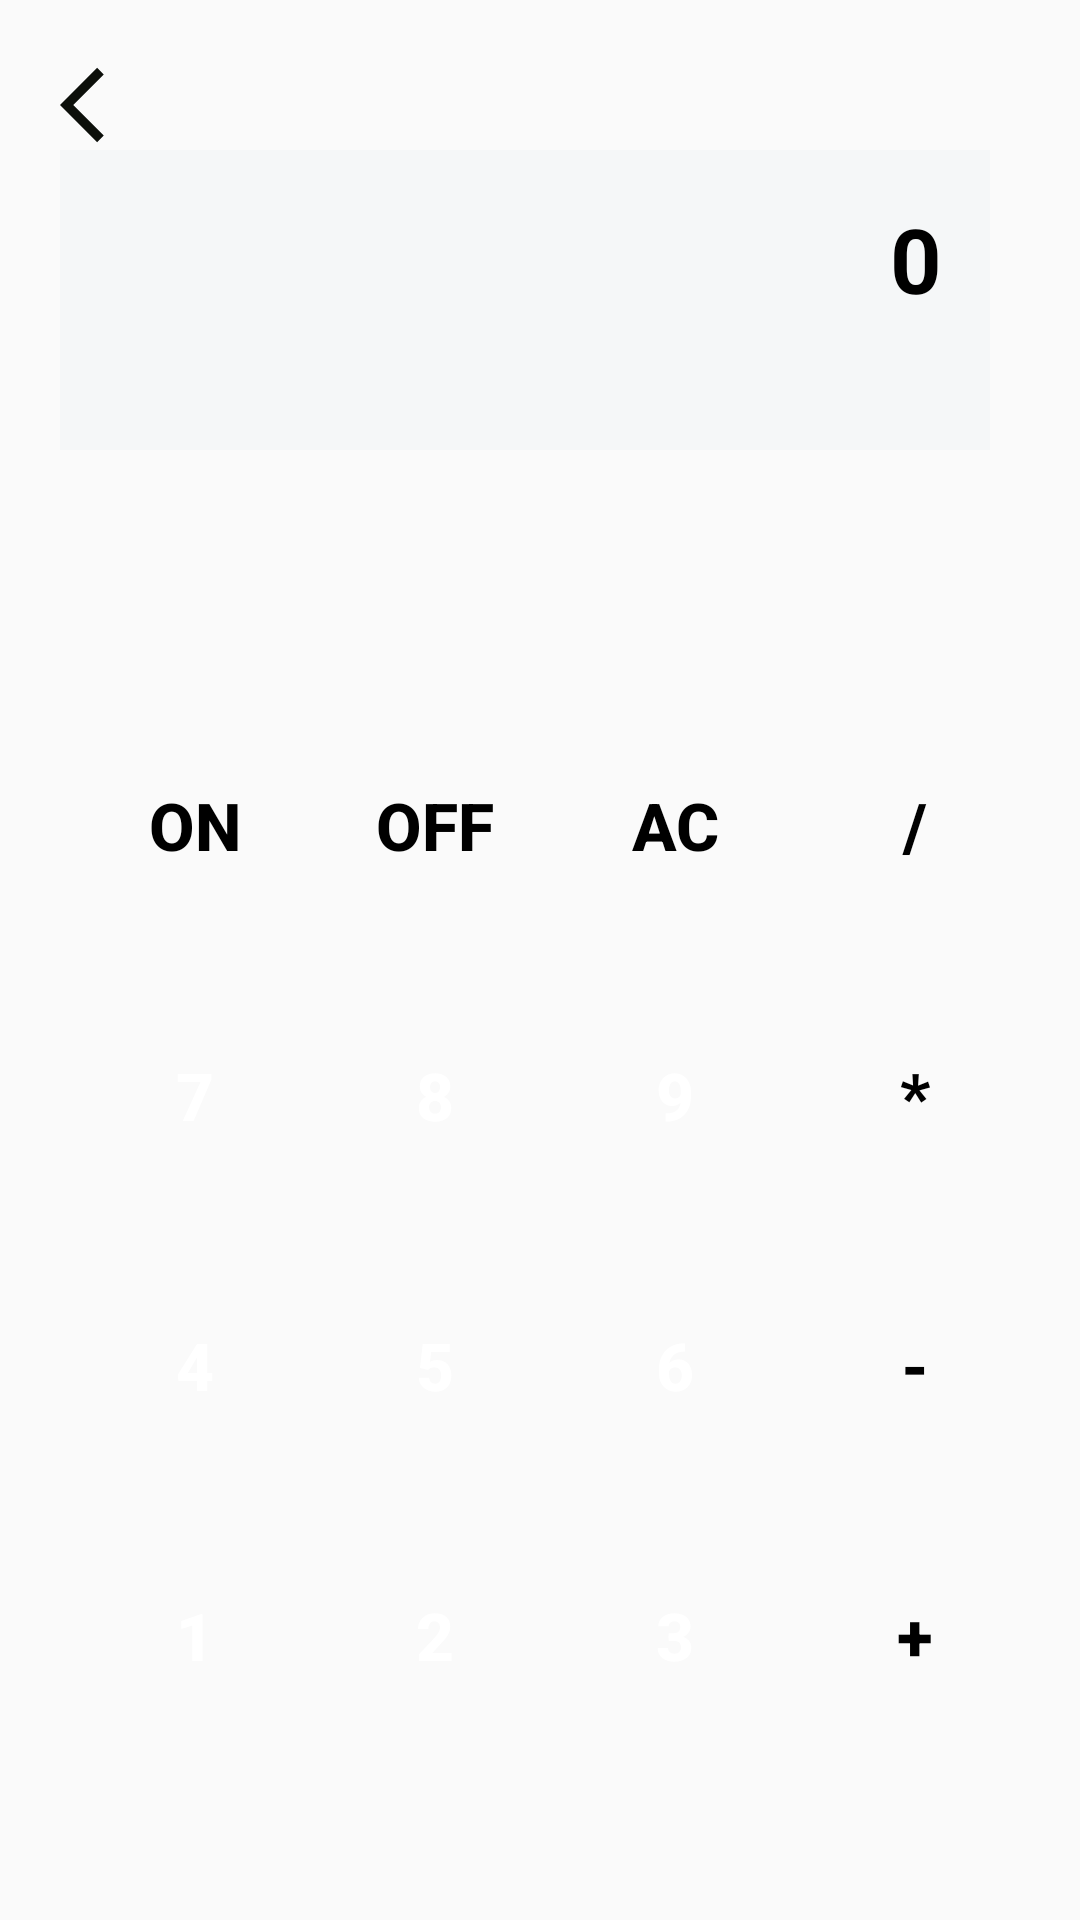

Icon bounding boxes for this 1080*1920 phone screenshot, format BBox(x1, y1, x2, y2):
back: BBox(60, 68, 104, 142)
